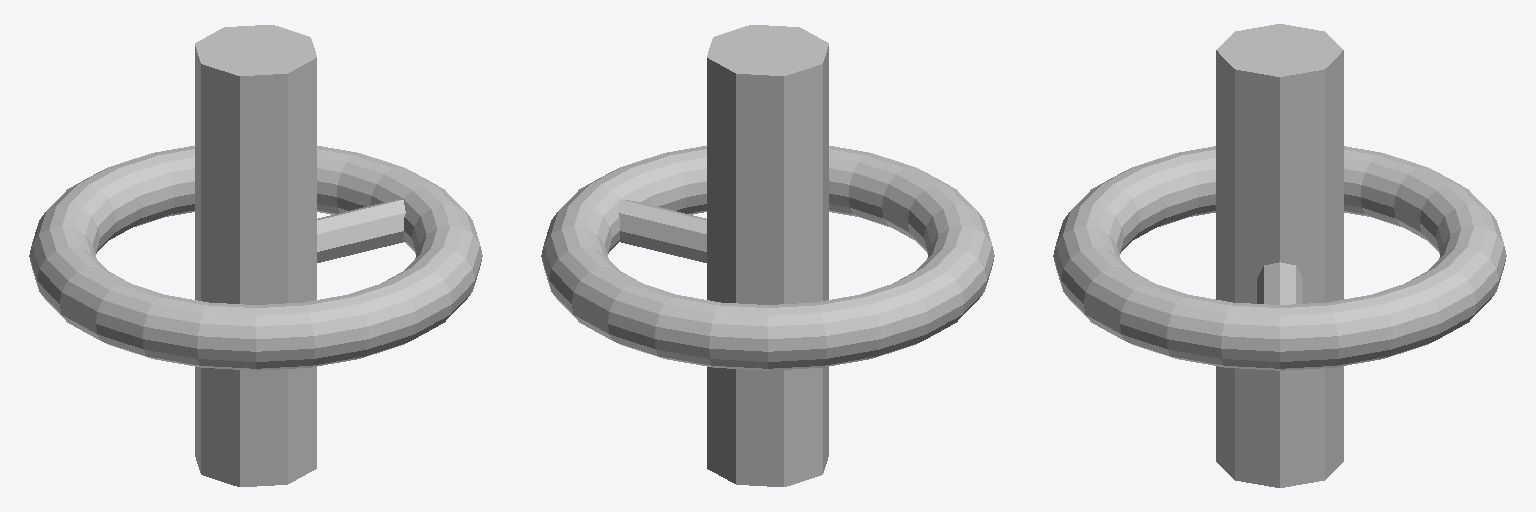
The model's file is DistributedGunBase.obj.
The picture shows the model from 3 angles: view 1: azimuth 30°, elevation 25°; view 2: azimuth 150°, elevation 25°; view 3: azimuth 270°, elevation 25°; orthographic projection.
Visible parts, largest first — view 1: DistributedGunBase; view 2: DistributedGunBase; view 3: DistributedGunBase.
Part boxes in pixels (x1,y1,x2,y2): DistributedGunBase: (29,25,482,486); DistributedGunBase: (541,25,994,486); DistributedGunBase: (1053,24,1506,487).
Bounding box in the file's own units: 2 × 2 × 2.